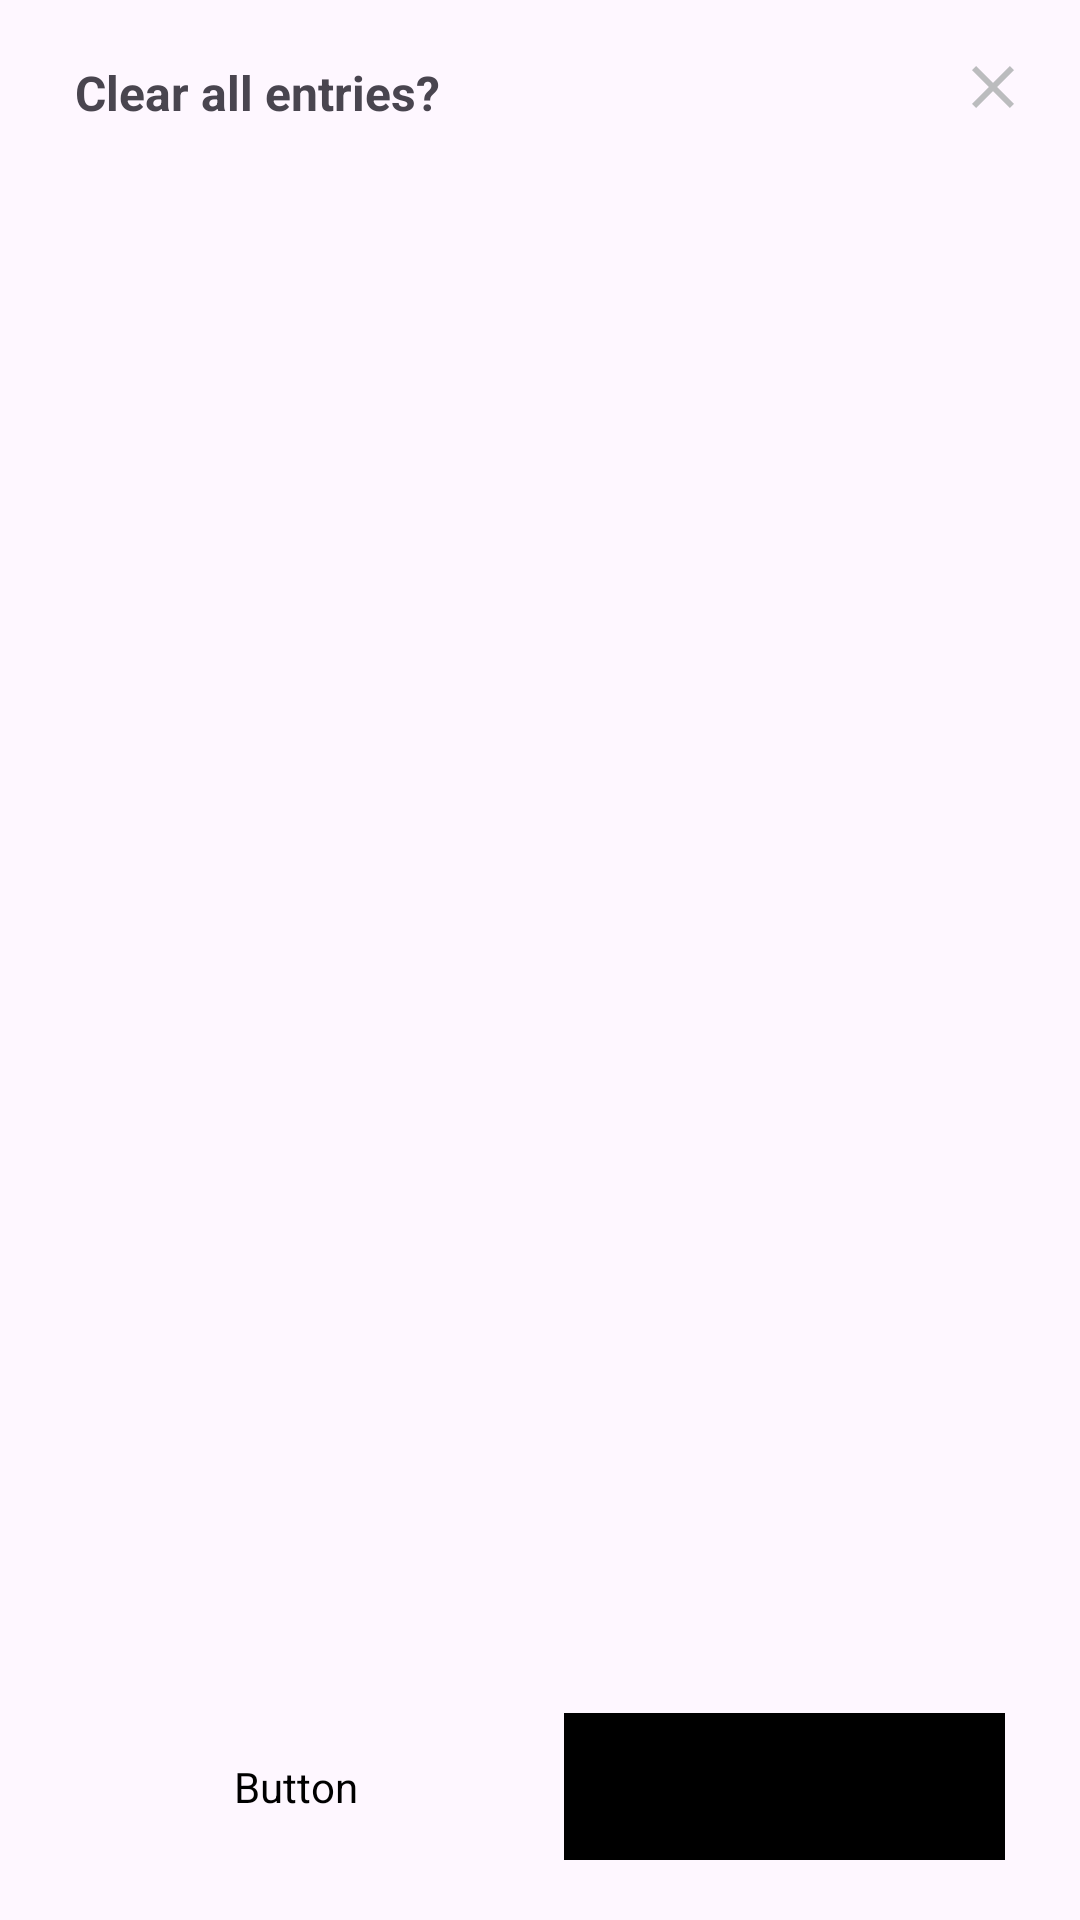

Icons on this 1080w x 1920h Android screen, each with the point to tap as (x=x, y=y):
close: (x=993, y=87)
